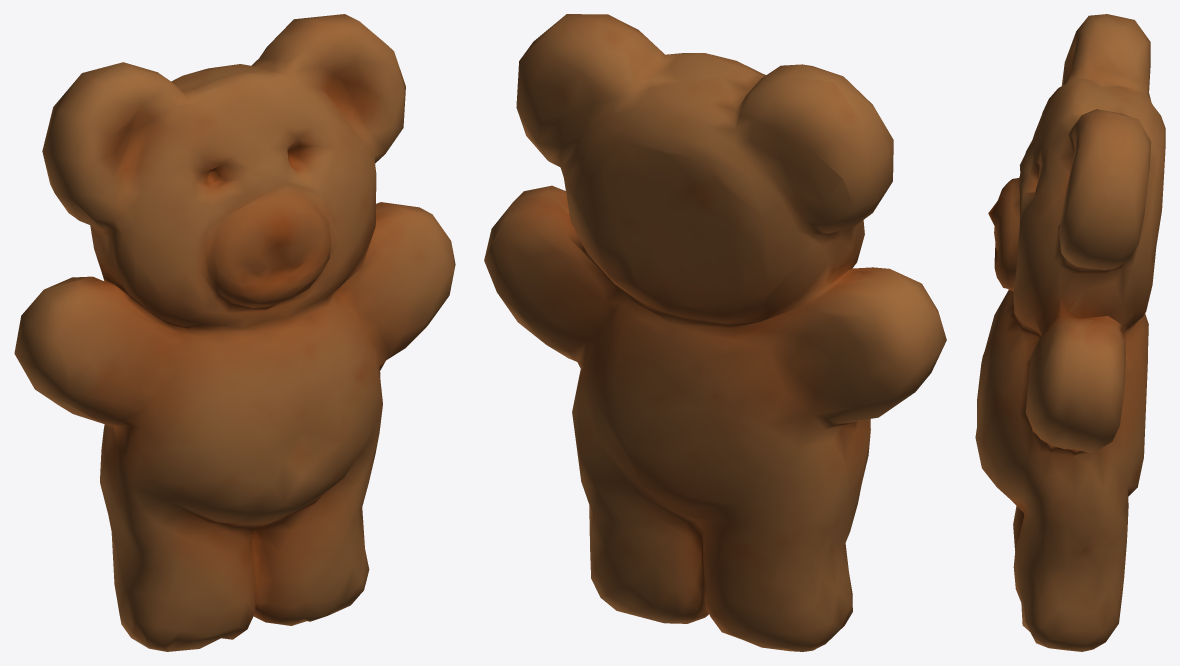
Rendered from BearCookie.glb.
3 renders of one model, left to right at view 1: azimuth 30°, elevation 25°; view 2: azimuth 150°, elevation 25°; view 3: azimuth 270°, elevation 25°, orthographic. The views are drawn at different scales.
Parts seen in each view (by area): view 1: geometry_0; view 2: geometry_0; view 3: geometry_0.
Part boxes in pixels (left/top/right/bottom): geometry_0: left=14, top=14, right=455, bottom=651; geometry_0: left=484, top=14, right=946, bottom=651; geometry_0: left=975, top=14, right=1165, bottom=651.
Bounding box in the file's own units: 0.7573 × 0.9788 × 0.3121.
1 material, 1 textured.
